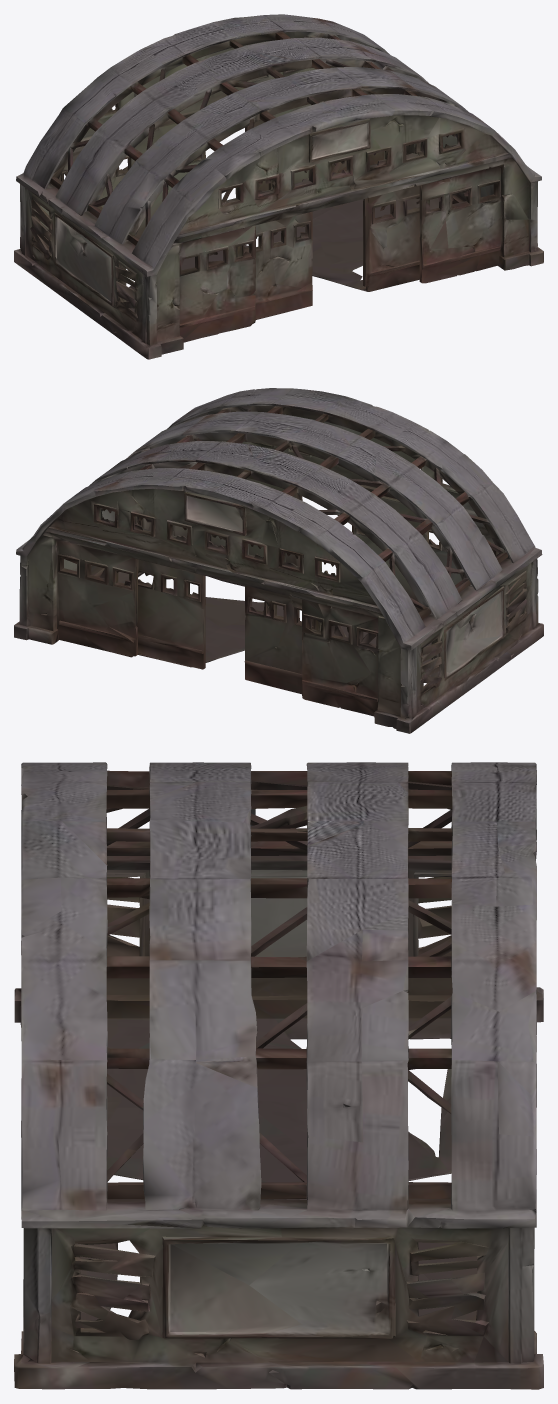
File: hangar_b_idle.glb
The picture shows the model from 3 angles, top to bottom: view 1: azimuth 30°, elevation 25°; view 2: azimuth 150°, elevation 25°; view 3: azimuth 270°, elevation 25°; orthographic projection. The views are drawn at different scales.
Visible parts, largest first — view 1: tripo_node_391cedff-d090-498c-89e7-67efa45c8cd6; view 2: tripo_node_391cedff-d090-498c-89e7-67efa45c8cd6; view 3: tripo_node_391cedff-d090-498c-89e7-67efa45c8cd6.
Part boxes in pixels (x1,y1,x2,y2): tripo_node_391cedff-d090-498c-89e7-67efa45c8cd6: (14,14,543,359); tripo_node_391cedff-d090-498c-89e7-67efa45c8cd6: (14,388,543,733); tripo_node_391cedff-d090-498c-89e7-67efa45c8cd6: (14,762,543,1389).
Size of the model in its own units: 24 by 11.14 by 14.12.
1 material, 1 textured.
